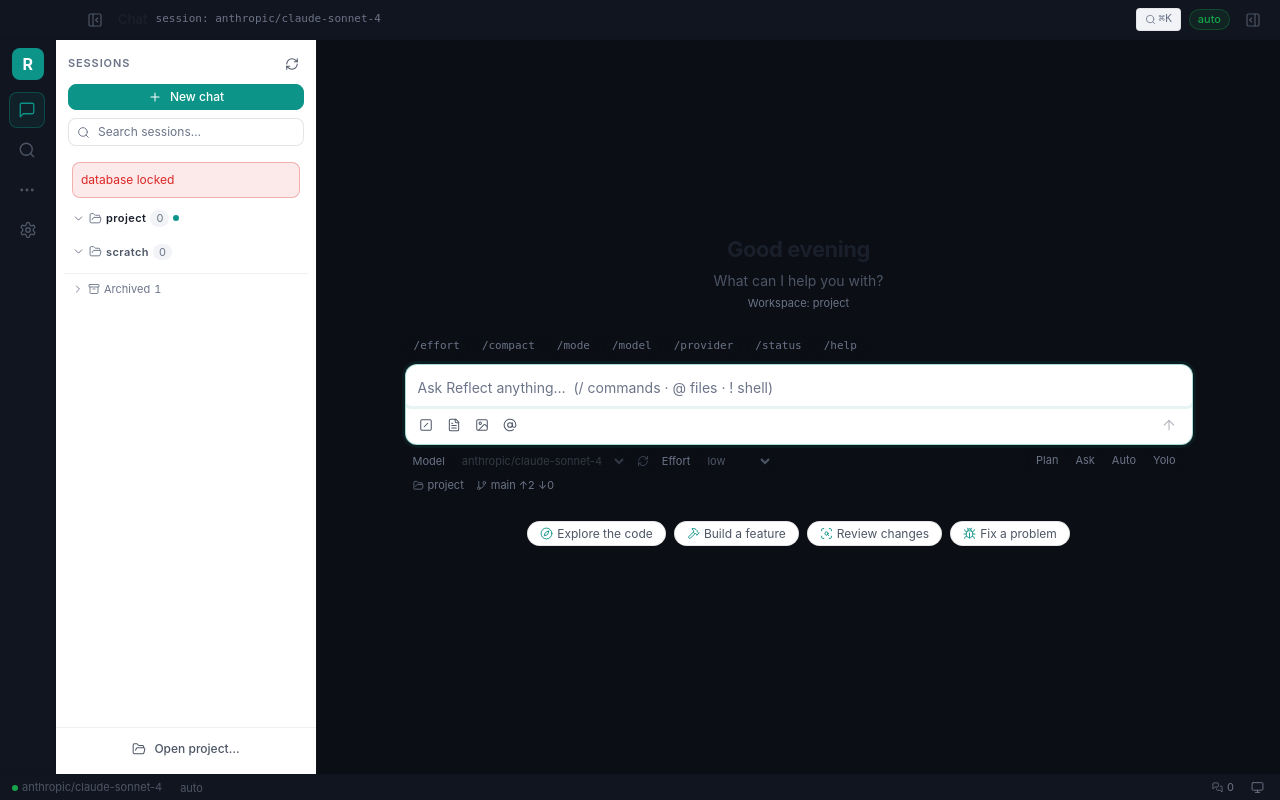
Test case: backend failures & recovery › sessions list failure shows error; Refresh button recovers when backend heals
Check: the element with test id "shell-sidebar" shows "database locked", box [81,172,174,187]
Click the button titled "Refresh": (292, 64) [280,52,304,76]
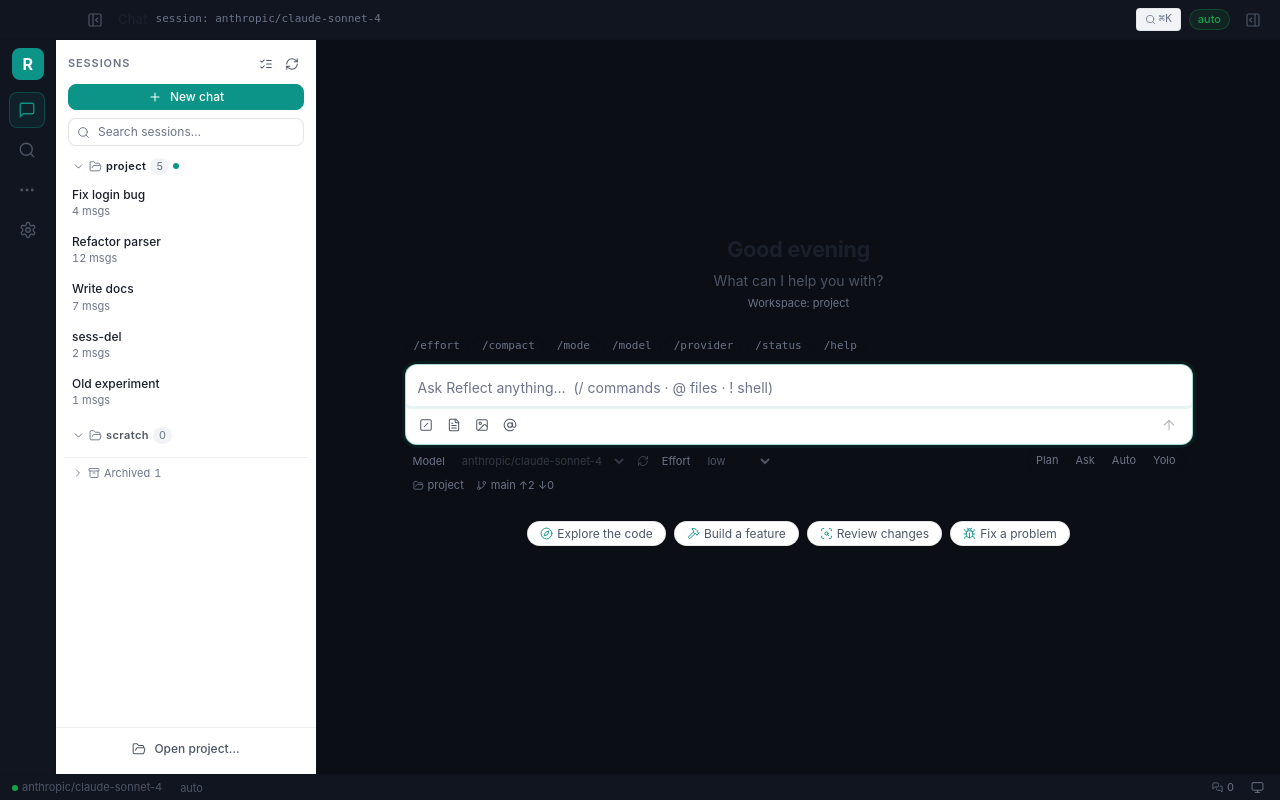
Check: the element with test id "shell-sidebar" shows "Fix login bug", box [64,180,282,226]
Check: the text with test id "shell-sidebar" no longer shows "database locked"
